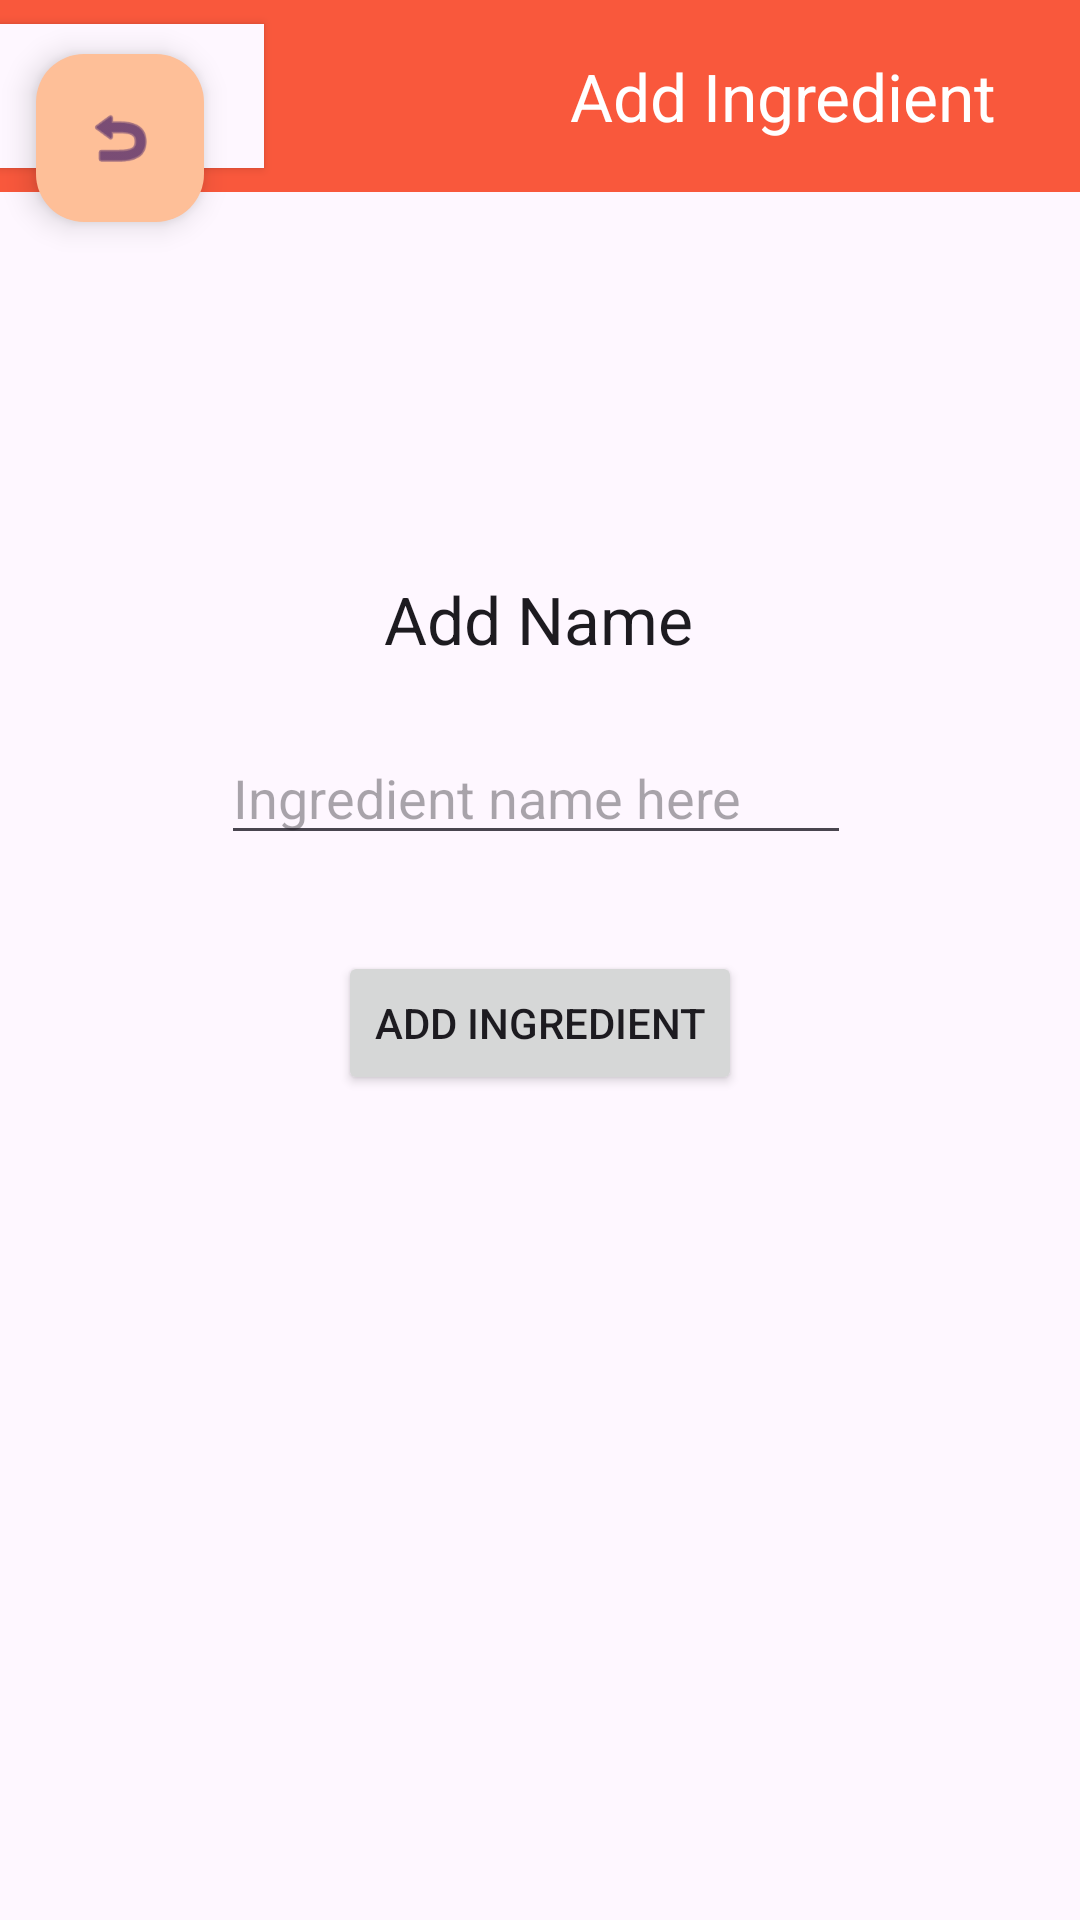

Locate icon controls on the screen. Image size 1080 x 1920, boxes as {"left": x1, "top": y1, "right": x2, "bottom": y2}.
Return to previous screen: {"left": 0, "top": 0, "right": 240, "bottom": 223}
